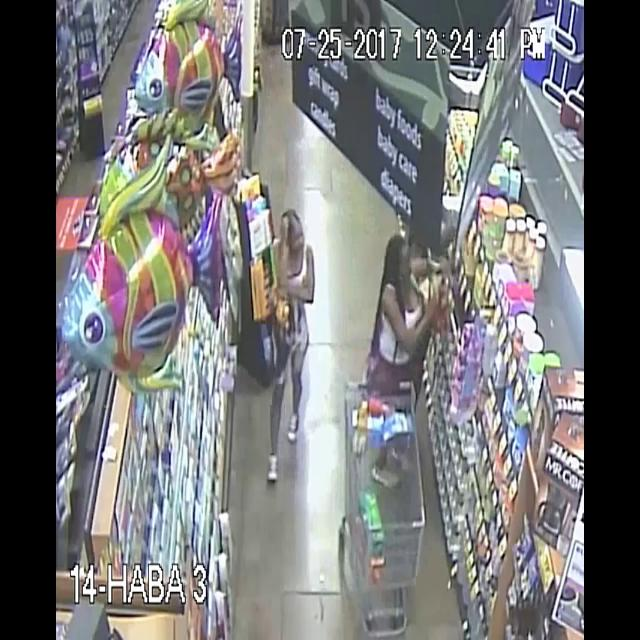Product: (426, 259, 448, 336)
normal: (253, 175, 323, 517)
shoplifting: (353, 207, 458, 425)
